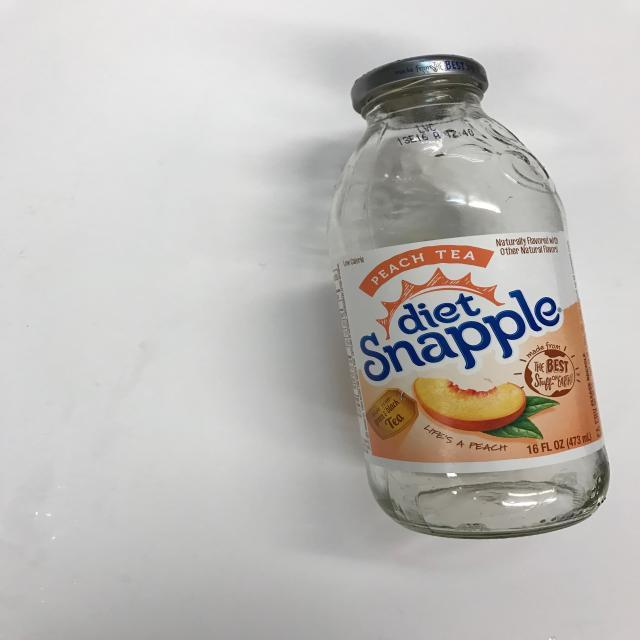glass: (324, 52, 612, 540)
